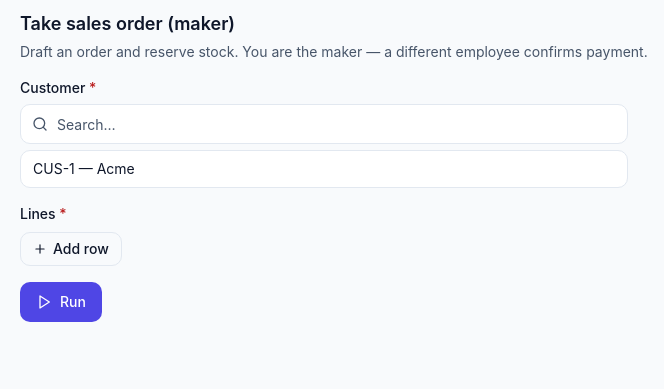
Scenario: Workflow manifest — US3 governed actions (maker) › take-sales-order: blocks before the edge until the customer and a line are given
Click the button "Run" at (61, 302), box x1=20 y1=282 x2=102 y2=322
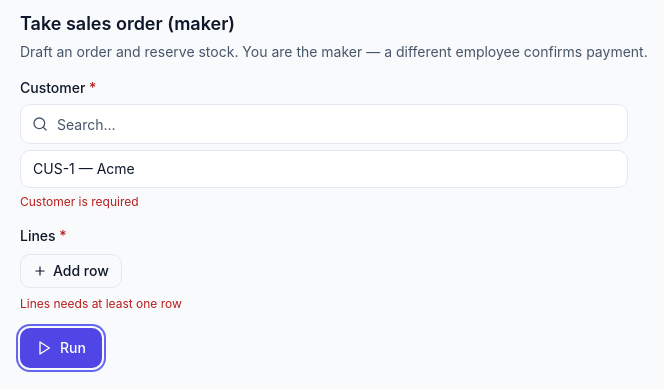
Expected: the text "Customer is required" is shown, x1=20 y1=194 x2=138 y2=209
Expected: the text "Lines needs at least one row" is shown, x1=20 y1=296 x2=182 y2=311
